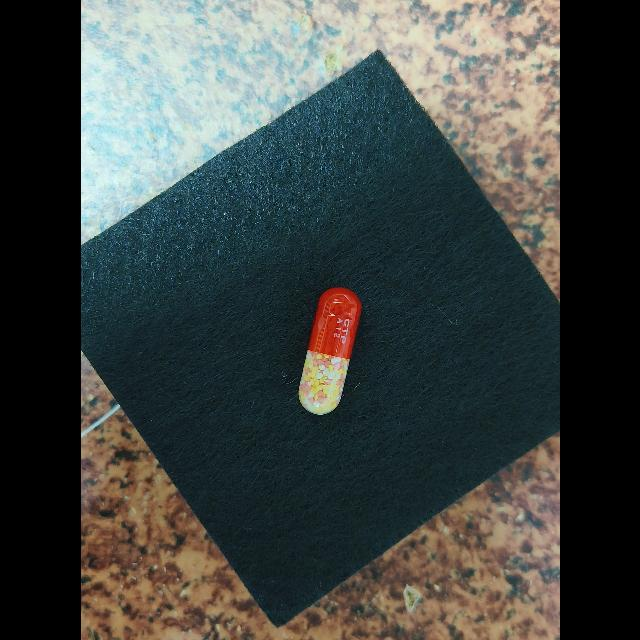Intact Capsule: (298, 287, 361, 415)
